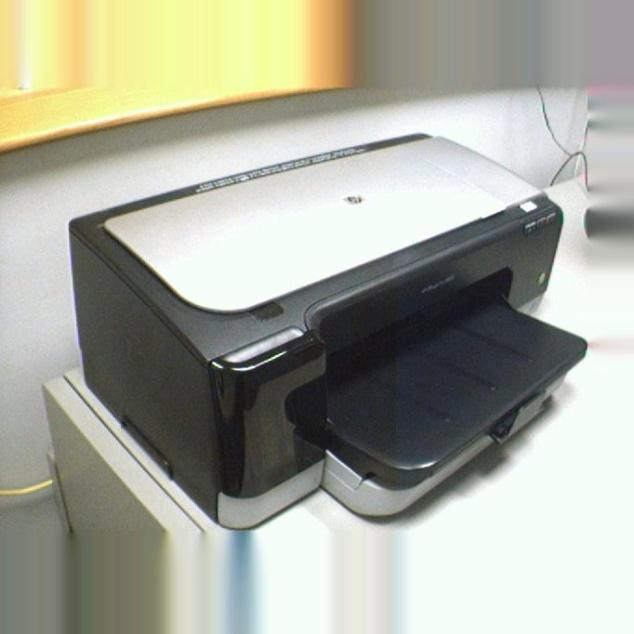Printer: (65, 131, 588, 530)
